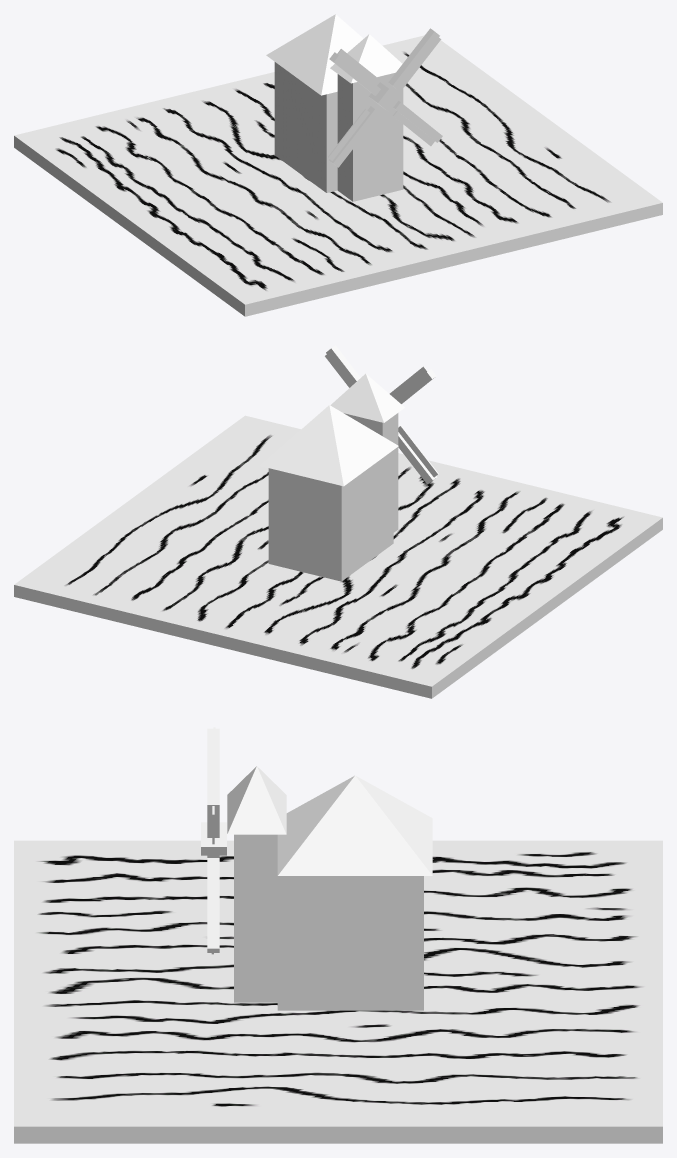
The model's file is Mill.fbx.
3 views of the same model, one above another, from view 1: azimuth 30°, elevation 25°; view 2: azimuth 150°, elevation 25°; view 3: azimuth 270°, elevation 25° (orthographic). The views are drawn at different scales.
Visible parts, largest first — view 1: root (×10); view 2: root (×7); view 3: root (×8).
Part boxes in pixels (left/top/right/bottom): root (×10): left=14, top=14, right=662, bottom=316; root (×7): left=14, top=345, right=662, bottom=698; root (×8): left=14, top=728, right=662, bottom=1143.
Bounding box in the file's own units: 1.89 × 0.7558 × 1.81.
Materials: 8 (1 with a texture image).
